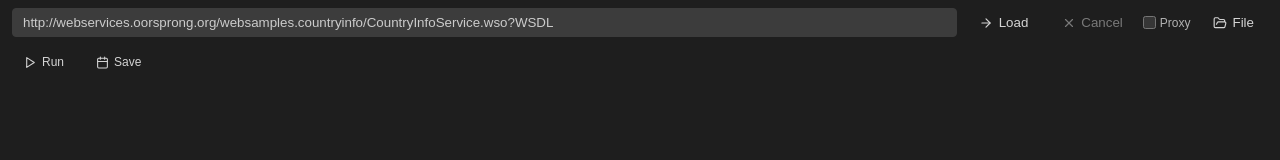
UnifiedExplorerMain execute (R-01 / R-02) › R-01: a rejected execute_soap_request renders the error surface
Click the button "Run": point(44, 62) [12, 51, 76, 73]
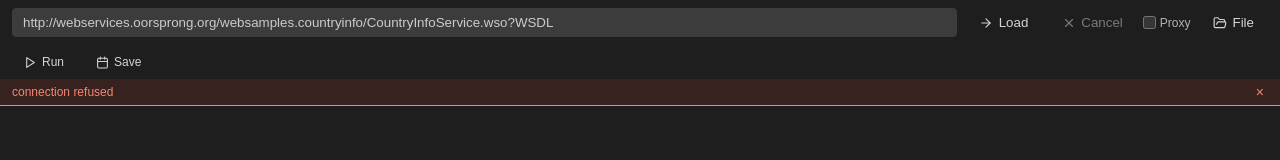
expect the message with test id "execute-error-banner" shows "connection refused": met, box [12, 85, 113, 99]
Dismiss clears the banner.
Click the button named "Dismiss error": point(1260, 92) [1252, 85, 1268, 99]
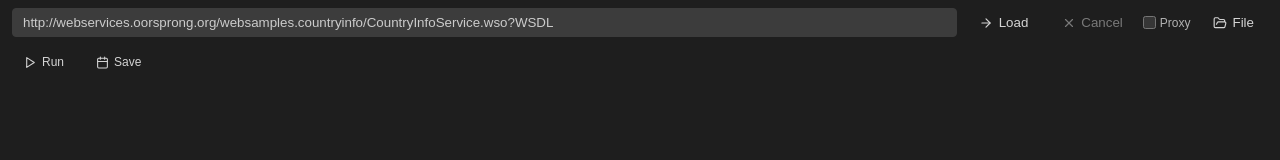
expect the message with test id "execute-error-banner" is gone: met
